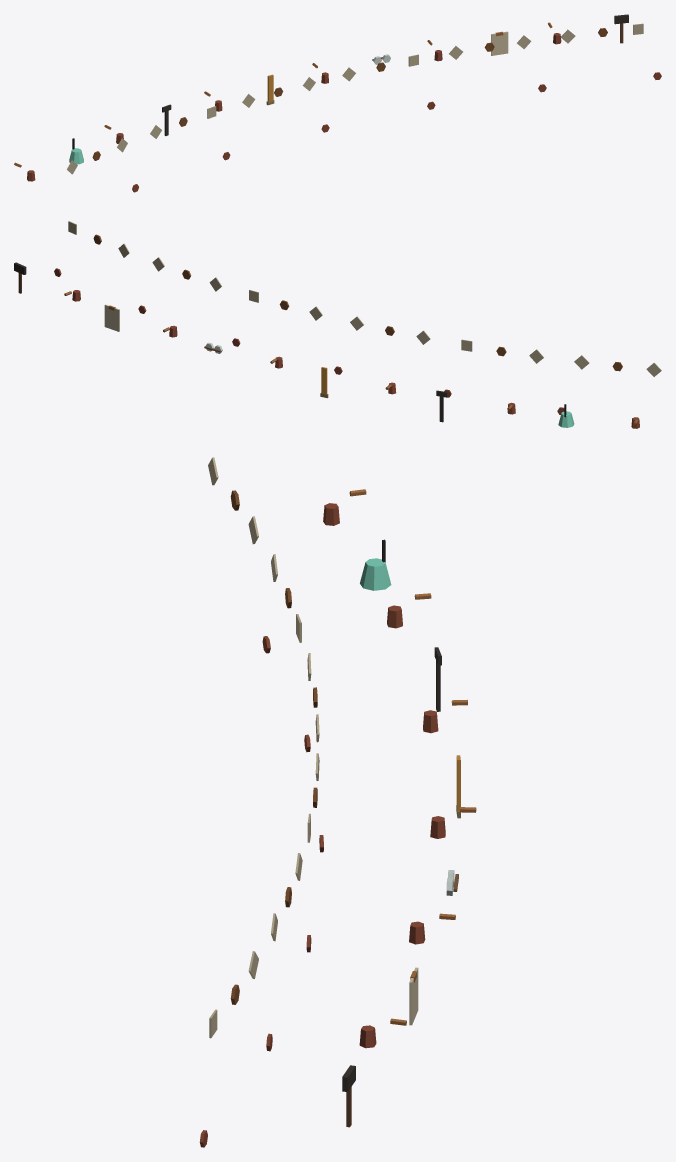
Rendered from camp_lockers_detail2.glb.
3 renders of one model, top to bottom at view 1: azimuth 30°, elevation 25°; view 2: azimuth 150°, elevation 25°; view 3: azimuth 270°, elevation 25°, orthographic. The views are drawn at different scales.
Parts seen in each view (by area): view 1: Body; view 2: Body; view 3: Body.
Boxes of the visible parts, bbox=[...] form: Body: bbox=[14, 14, 661, 192]; Body: bbox=[14, 221, 661, 428]; Body: bbox=[199, 457, 476, 1147].
Size of the model in its own units: 19.44 by 1.82 by 3.82.
